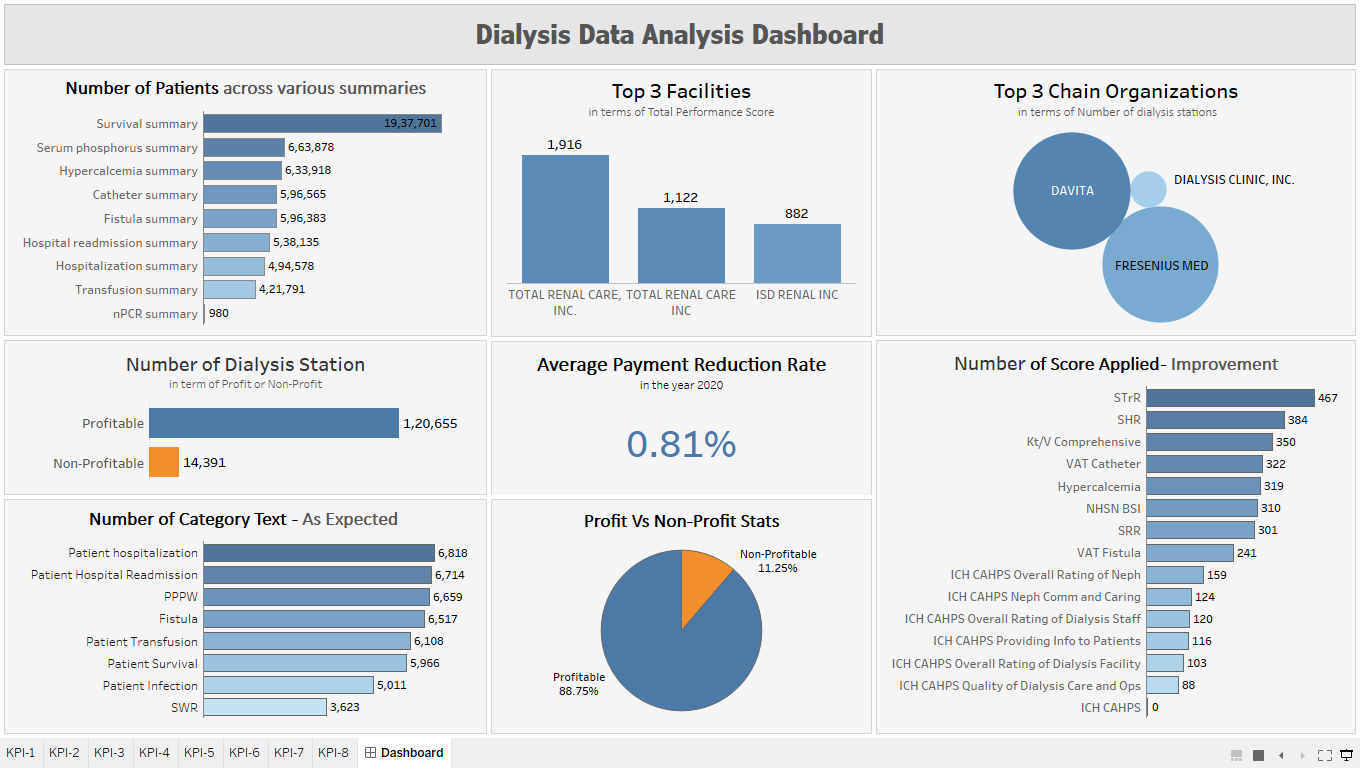

What the dashboard file says about the page in this screenshot:
{"tool":"tableau","page":{"name":"Dashboard","canvas":[1000,1000],"units":"permille","ordinal":0},"visuals":[{"type":"title","box":[1.5,3,997.1,93.3]},{"type":"worksheet","title":"KPI-1","mark":"Automatic","box":[1.5,96.3,357.8,364.7]},{"type":"worksheet","title":"KPI-2","mark":"Pie","box":[359.3,96.3,283.4,364.5]},{"type":"worksheet","title":"KPI-3","mark":"Circle","box":[642.6,96.3,355.9,364.7]},{"type":"worksheet","title":"KPI-8","mark":"Automatic","box":[359.3,460.8,283.4,214.8]},{"type":"worksheet","title":"KPI-4","mark":"Automatic","rows":["Profit or Non-Profit"],"cols":["# of Dialysis Stations"],"box":[1.5,460.9,357.8,214.1]},{"type":"worksheet","title":"KPI-6","mark":"Automatic","box":[642.6,460.9,355.9,536.1]},{"type":"worksheet","title":"KPI-5","mark":"Automatic","box":[1.5,675,357.8,322]},{"type":"worksheet","title":"KPI-7","mark":"Automatic","rows":["Total Performance Score"],"cols":["Facility Name (Dialysis - II.csv)"],"box":[359.3,675.6,283.4,321.4]}]}

Visuals, with their boxes on the dashboard's canvas, which has no fixed pixel size, in thousandths of its width and height (x1, y1, x2, y2). These are canvas units, not pixel positions in the 1360x768 screenshot, which may show the page scaled, cropped or inside an application window:
title: 2,3,999,96
"KPI-1" worksheet: 2,96,359,461
"KPI-2" worksheet (Pie marks): 359,96,643,461
"KPI-3" worksheet (Circle marks): 643,96,998,461
"KPI-8" worksheet: 359,461,643,676
"KPI-4" worksheet: 2,461,359,675
"KPI-6" worksheet: 643,461,998,997
"KPI-5" worksheet: 2,675,359,997
"KPI-7" worksheet: 359,676,643,997
